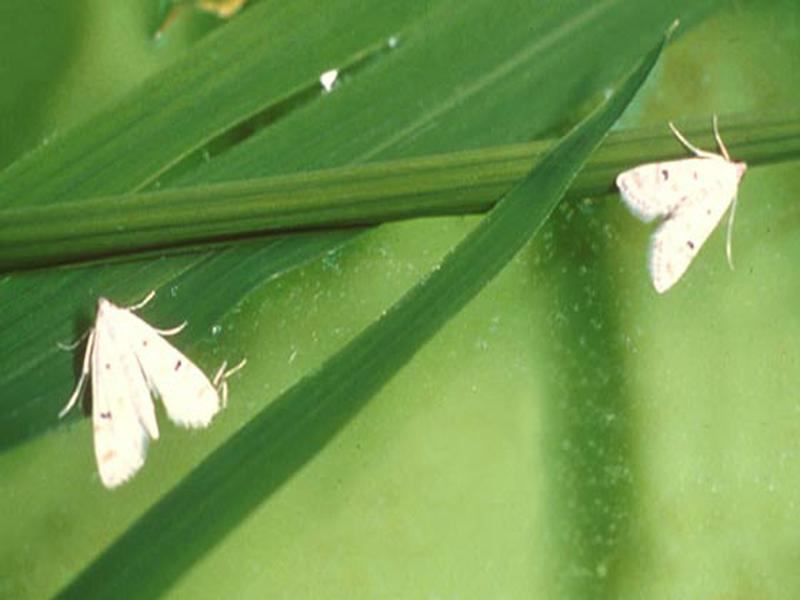Rice_case_worm: (37, 272, 244, 498), (598, 125, 765, 296)
